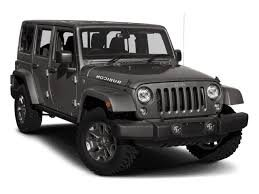mobil: (10, 14, 252, 187)
